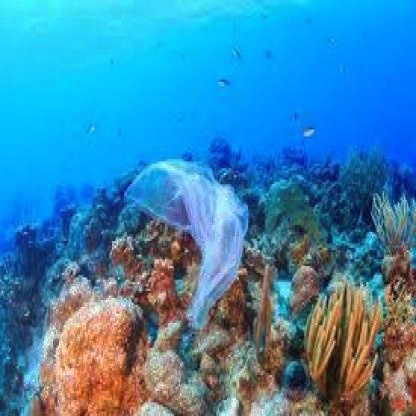pbag: (120, 146, 252, 330)
